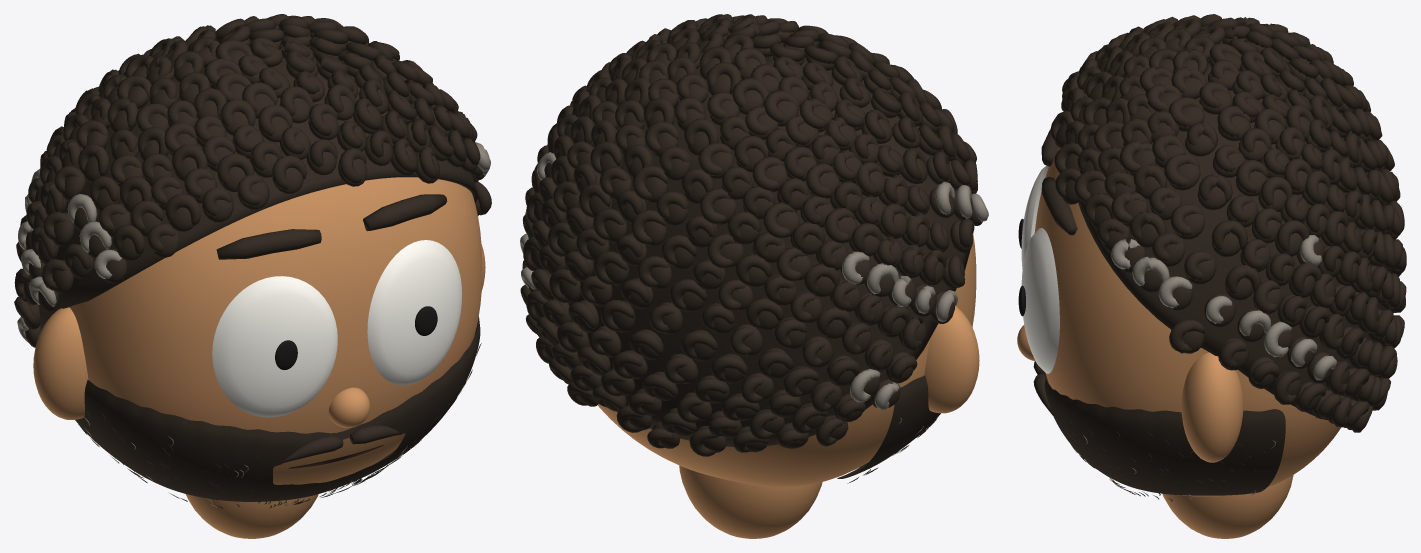
File: juan.glb
The picture shows the model from 3 angles, left to right: view 1: azimuth 30°, elevation 25°; view 2: azimuth 150°, elevation 25°; view 3: azimuth 270°, elevation 25°; orthographic projection. The views are drawn at different scales.
Visible parts, largest first — view 1: Hair_detail_juan_hair, Face, Beard_sculpt, Eye_white_L, Hair_detail_juan_hair_light, Eye_white_R, Hair_cap, Ear_L, Neck, Hair_detail_juan_silver, Eyebrow_L, Eyebrow_R (+3 smaller); view 2: Hair_detail_juan_hair, Hair_detail_juan_hair_light, Hair_cap, Face, Neck, Hair_detail_juan_silver, Ear_L, Beard_sculpt; view 3: Hair_detail_juan_hair, Face, Hair_detail_juan_hair_light, Beard_sculpt, Hair_cap, Ear_R, Hair_detail_juan_silver, Neck, Eye_white_R, Eyebrow_R, Eye_white_L, Facial_hair_juan_beard_light.
Boxes of the visible parts, <box> form: Hair_detail_juan_hair: <box>14,14,491,347</box>; Face: <box>69,177,482,484</box>; Beard_sculpt: <box>75,316,480,501</box>; Eye_white_L: <box>212,276,337,417</box>; Hair_detail_juan_hair_light: <box>14,15,480,302</box>; Eye_white_R: <box>367,240,462,385</box>; Hair_cap: <box>39,46,478,330</box>; Ear_L: <box>33,307,88,419</box>; Neck: <box>185,494,318,538</box>; Hair_detail_juan_silver: <box>17,142,490,341</box>; Eyebrow_L: <box>216,229,321,259</box>; Eyebrow_R: <box>363,194,447,231</box>; Hair_detail_juan_hair: <box>520,14,982,456</box>; Hair_detail_juan_hair_light: <box>525,14,977,447</box>; Hair_cap: <box>566,40,970,446</box>; Face: <box>597,233,976,487</box>; Neck: <box>679,465,822,538</box>; Hair_detail_juan_silver: <box>520,152,988,410</box>; Ear_L: <box>924,306,979,413</box>; Beard_sculpt: <box>837,375,940,478</box>; Hair_detail_juan_hair: <box>1050,15,1406,432</box>; Face: <box>1034,147,1341,496</box>; Hair_detail_juan_hair_light: <box>1070,14,1405,426</box>; Beard_sculpt: <box>1044,373,1285,495</box>; Hair_cap: <box>1078,62,1382,420</box>; Ear_R: <box>1181,352,1243,462</box>; Hair_detail_juan_silver: <box>1111,235,1336,380</box>; Neck: <box>1162,475,1293,538</box>; Eye_white_R: <box>1021,228,1059,373</box>; Eyebrow_R: <box>1041,177,1077,235</box>; Eye_white_L: <box>1021,165,1048,269</box>; Facial_hair_juan_beard_light: <box>1065,420,1278,501</box>.
Size of the model in its own units: 1.18 by 1.27 by 0.9115.
